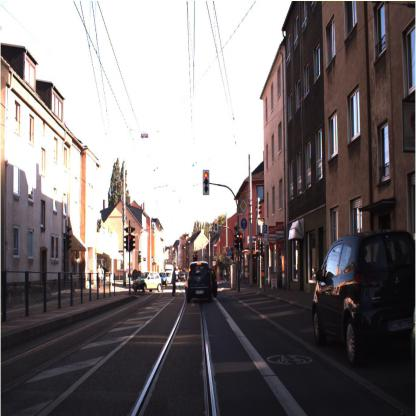mandatory: (238, 216, 248, 231)
other: (239, 199, 247, 213)
